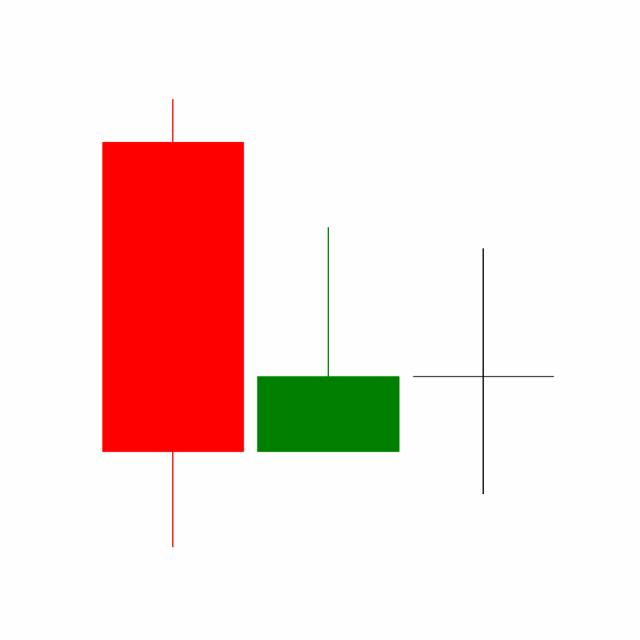Spinning Top: (405, 245, 561, 497)
